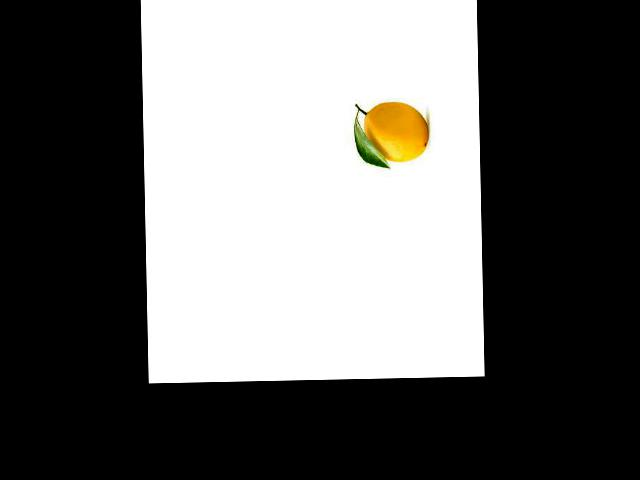lemon: (358, 97, 434, 165)
